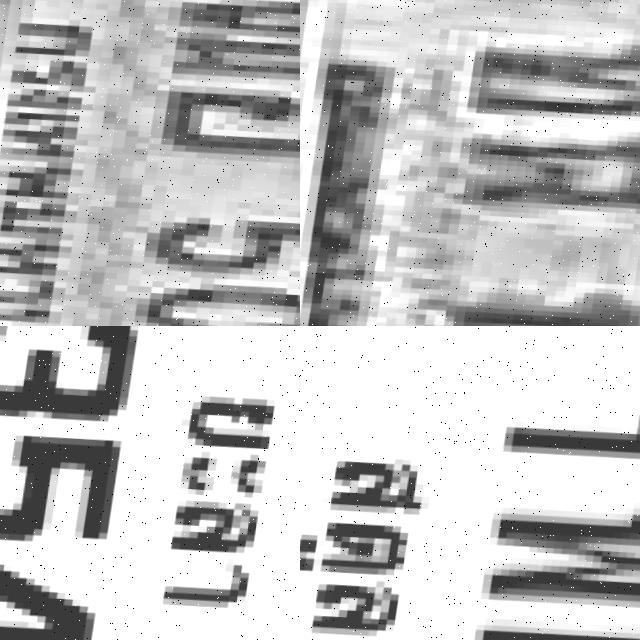license-plate: (300, 0, 640, 326), (300, 326, 640, 640), (0, 0, 300, 326), (0, 326, 300, 640)
